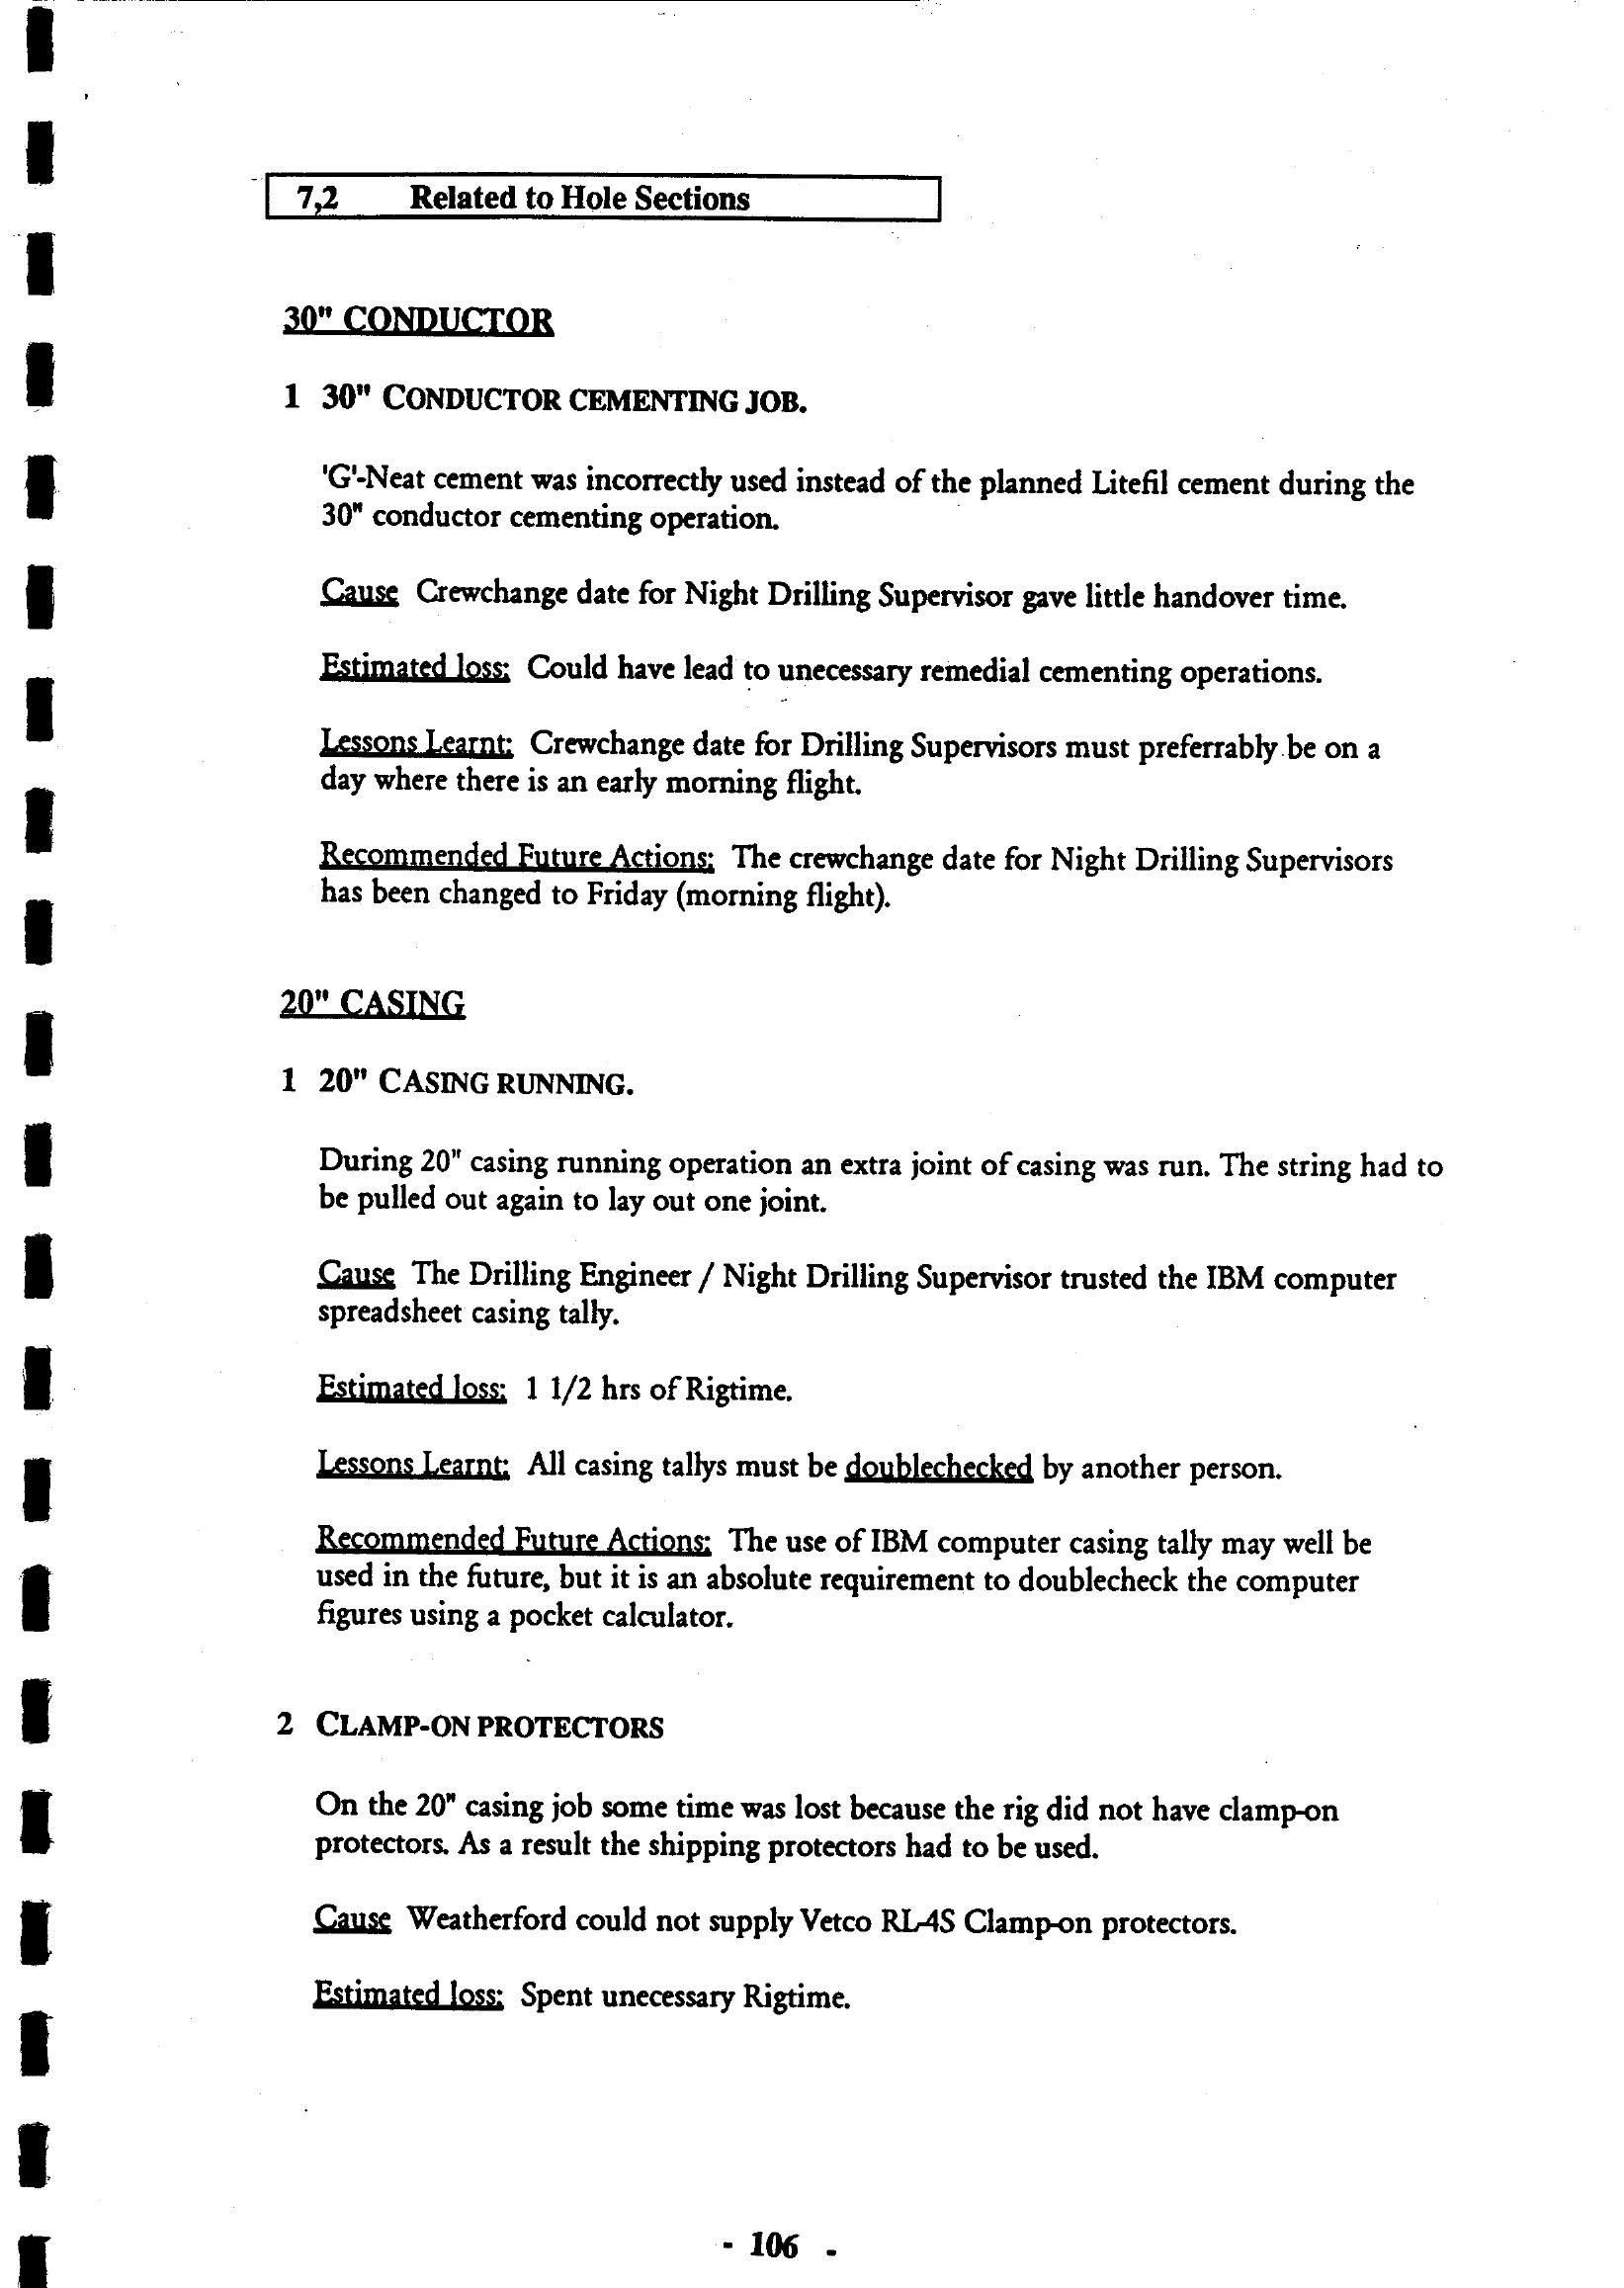text: (218, 155, 1512, 2082)
